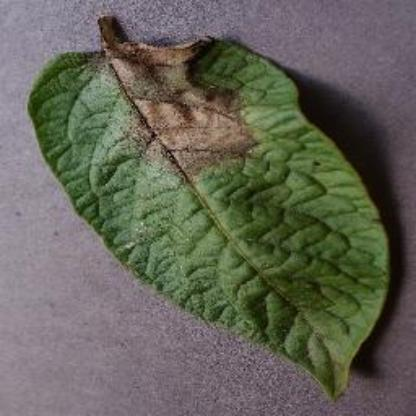Late-Blight: (26, 8, 398, 400)
